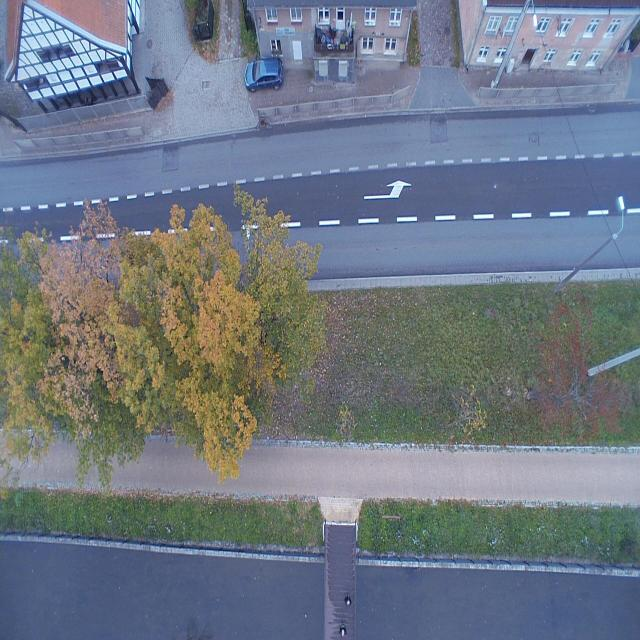p3rson: (339, 621, 347, 638), (344, 594, 352, 606)
